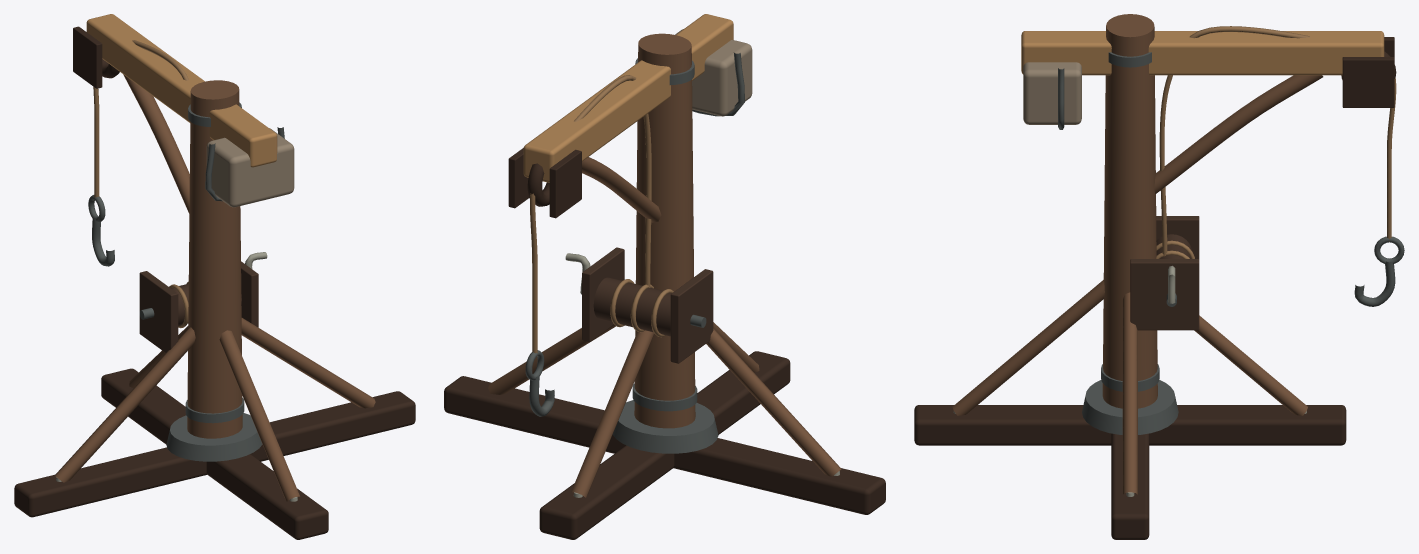
Rendered from extra_dock_crane.glb.
The picture shows the model from 3 angles, left to right: view 1: azimuth 30°, elevation 25°; view 2: azimuth 150°, elevation 25°; view 3: azimuth 270°, elevation 25°; orthographic projection. The views are drawn at different scales.
Parts seen in each view (by area): view 1: wood, metal, cloth; view 2: wood, metal, cloth; view 3: wood, metal, cloth.
Boxes of the visible parts, x1,y1,x2,y2 form: wood: [14, 14, 415, 539]; metal: [56, 102, 297, 501]; cloth: [93, 40, 188, 200]; wood: [444, 14, 885, 539]; metal: [525, 52, 839, 497]; cloth: [530, 75, 651, 356]; wood: [914, 14, 1396, 539]; metal: [953, 52, 1404, 496]; cloth: [1159, 26, 1396, 256].
Size of the model in its own units: 2.8 by 2.6 by 2.8.
